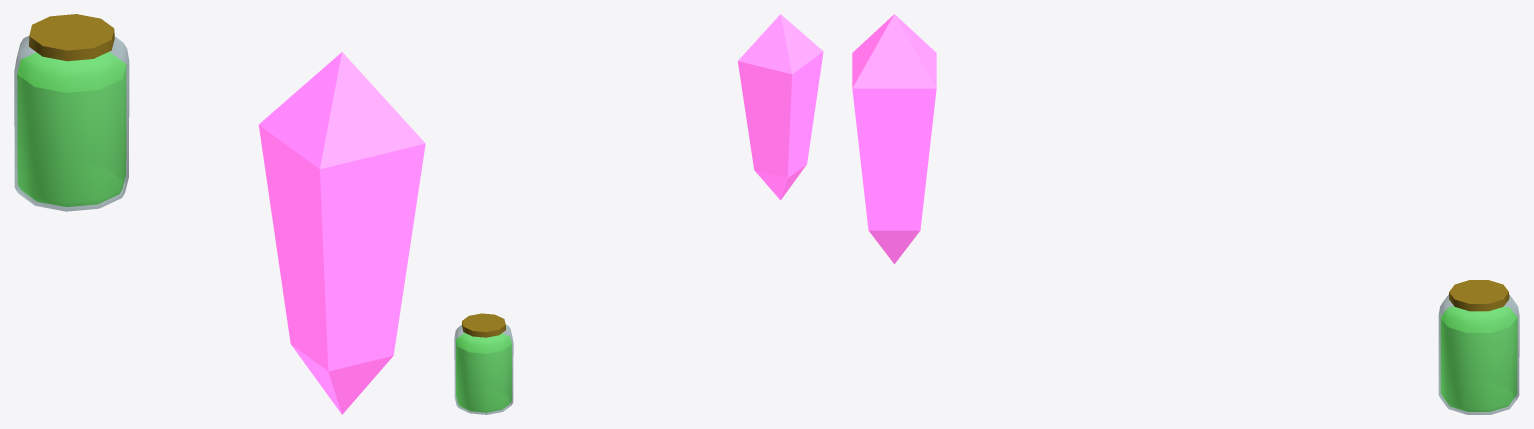
The model's file is Props2.fbx.
3 views of the same model, side by side, from view 1: azimuth 30°, elevation 25°; view 2: azimuth 150°, elevation 25°; view 3: azimuth 270°, elevation 25° (orthographic). The views are drawn at different scales.
Parts seen in each view (by area): view 1: Crystal.1, Jar.1, Jar.Fill; view 2: Crystal.1, Jar.1, Jar.Fill; view 3: Crystal.1, Jar.1, Jar.Fill.
Boxes of the visible parts, x1,y1,x2,y2 form: Crystal.1: (258, 52, 425, 414); Jar.1: (14, 14, 129, 211); Jar.Fill: (17, 52, 126, 207); Crystal.1: (737, 14, 823, 200); Jar.1: (454, 313, 513, 414); Jar.Fill: (456, 333, 511, 412); Crystal.1: (852, 14, 936, 263); Jar.1: (1438, 280, 1519, 414); Jar.Fill: (1440, 306, 1517, 411).
Bounding box in the file's own units: 0.4185 × 0.7601 × 1.38.
